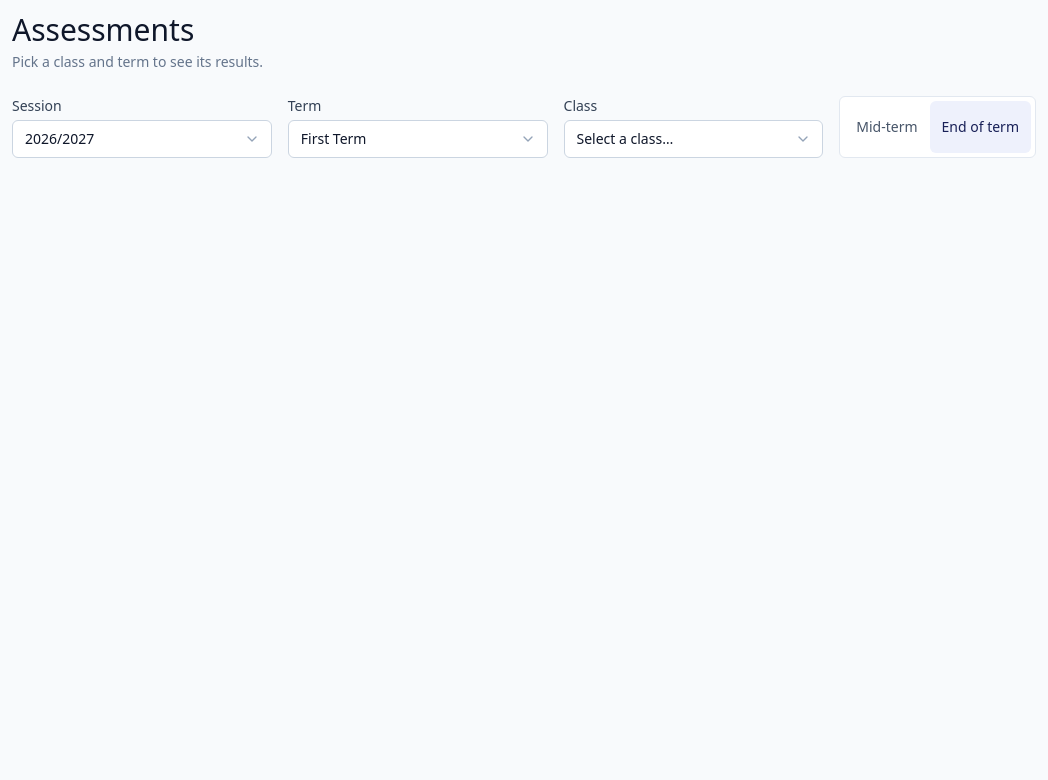
Test: AdminResultsPanel › shows the class teacher's remark composer only when the server marks it editable
Select "Primary 1A" in the dropdown labelled "Class" at [693, 139], box [564,120,823,158]
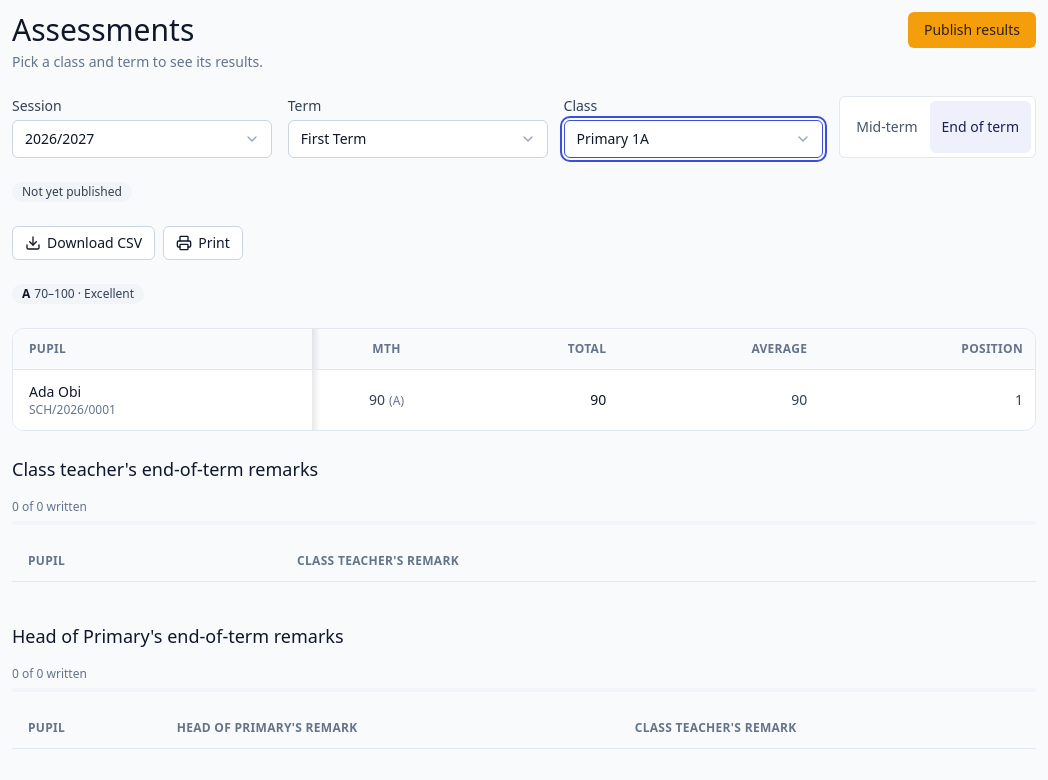
Expected: the heading "Class teacher's end-of-term remarks" is shown, [12,457,318,481]
